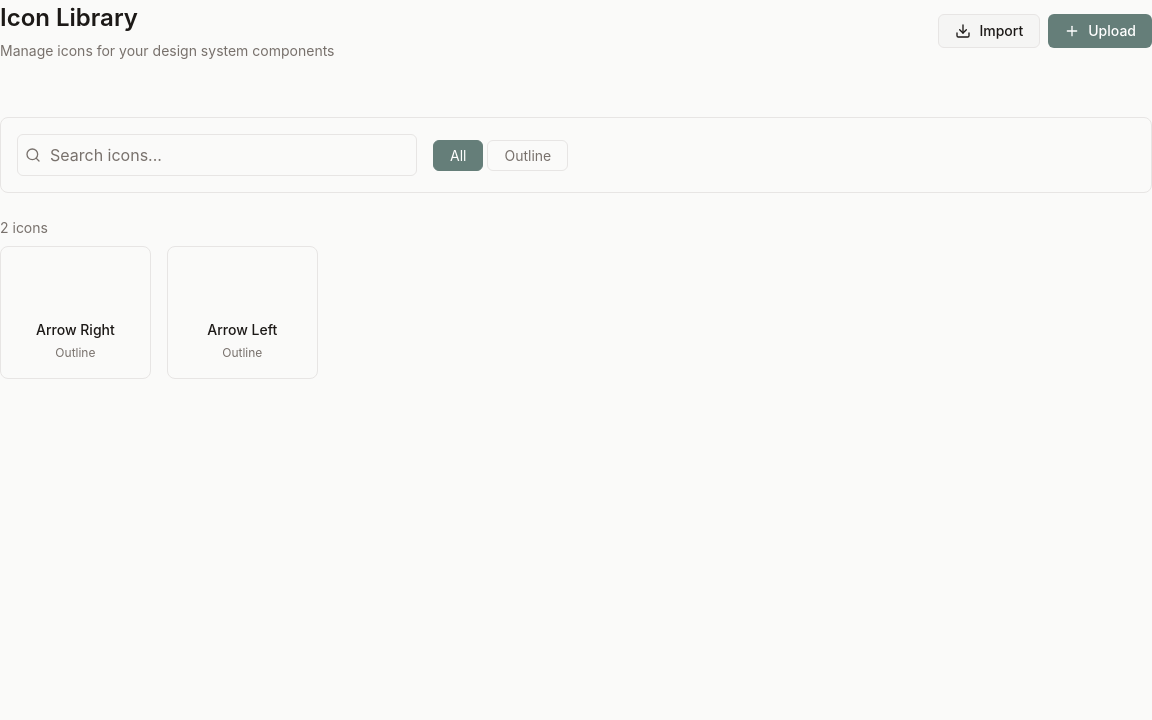
it: IconsPage › Import modal shows Icons8 as coming soon (not a dead-end flow)
Expected: the text "Arrow Right" is shown, [36,319,115,340]
Click the button "Import": (989, 30) [938,14,1040,48]
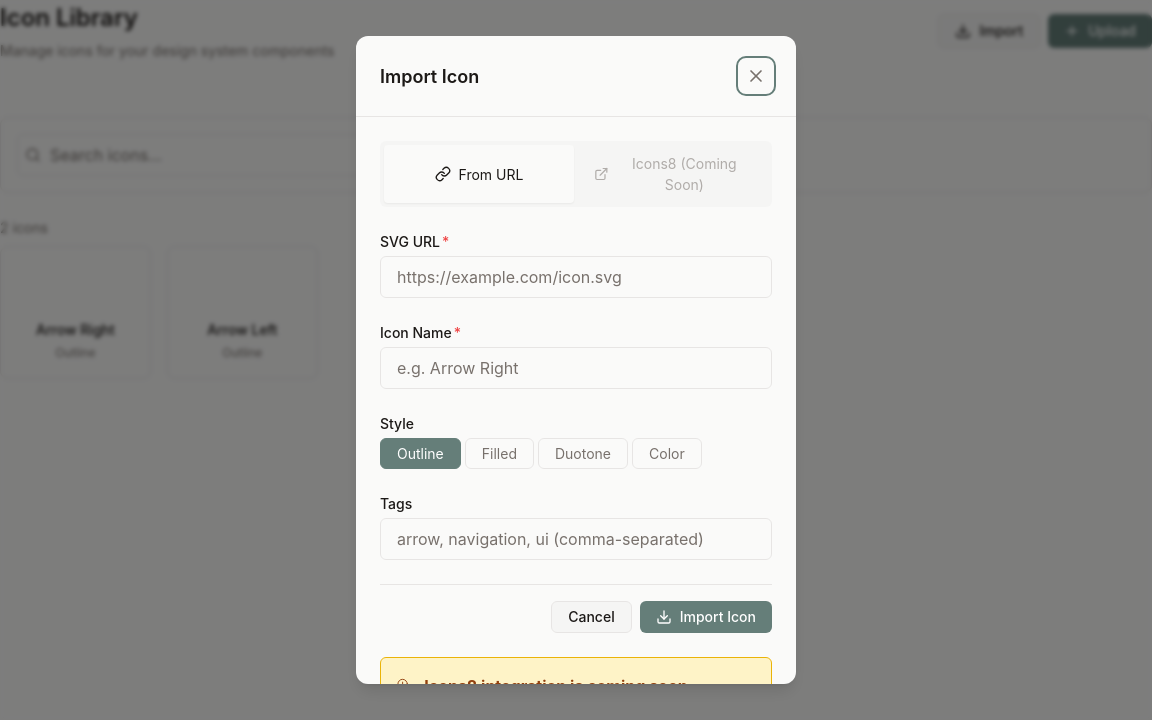
Expected: the heading "Import Icon" is shown, [380,62,479,90]
Expected: the button "Icons8 (Coming Soon)" is shown, [578,145,768,203]
